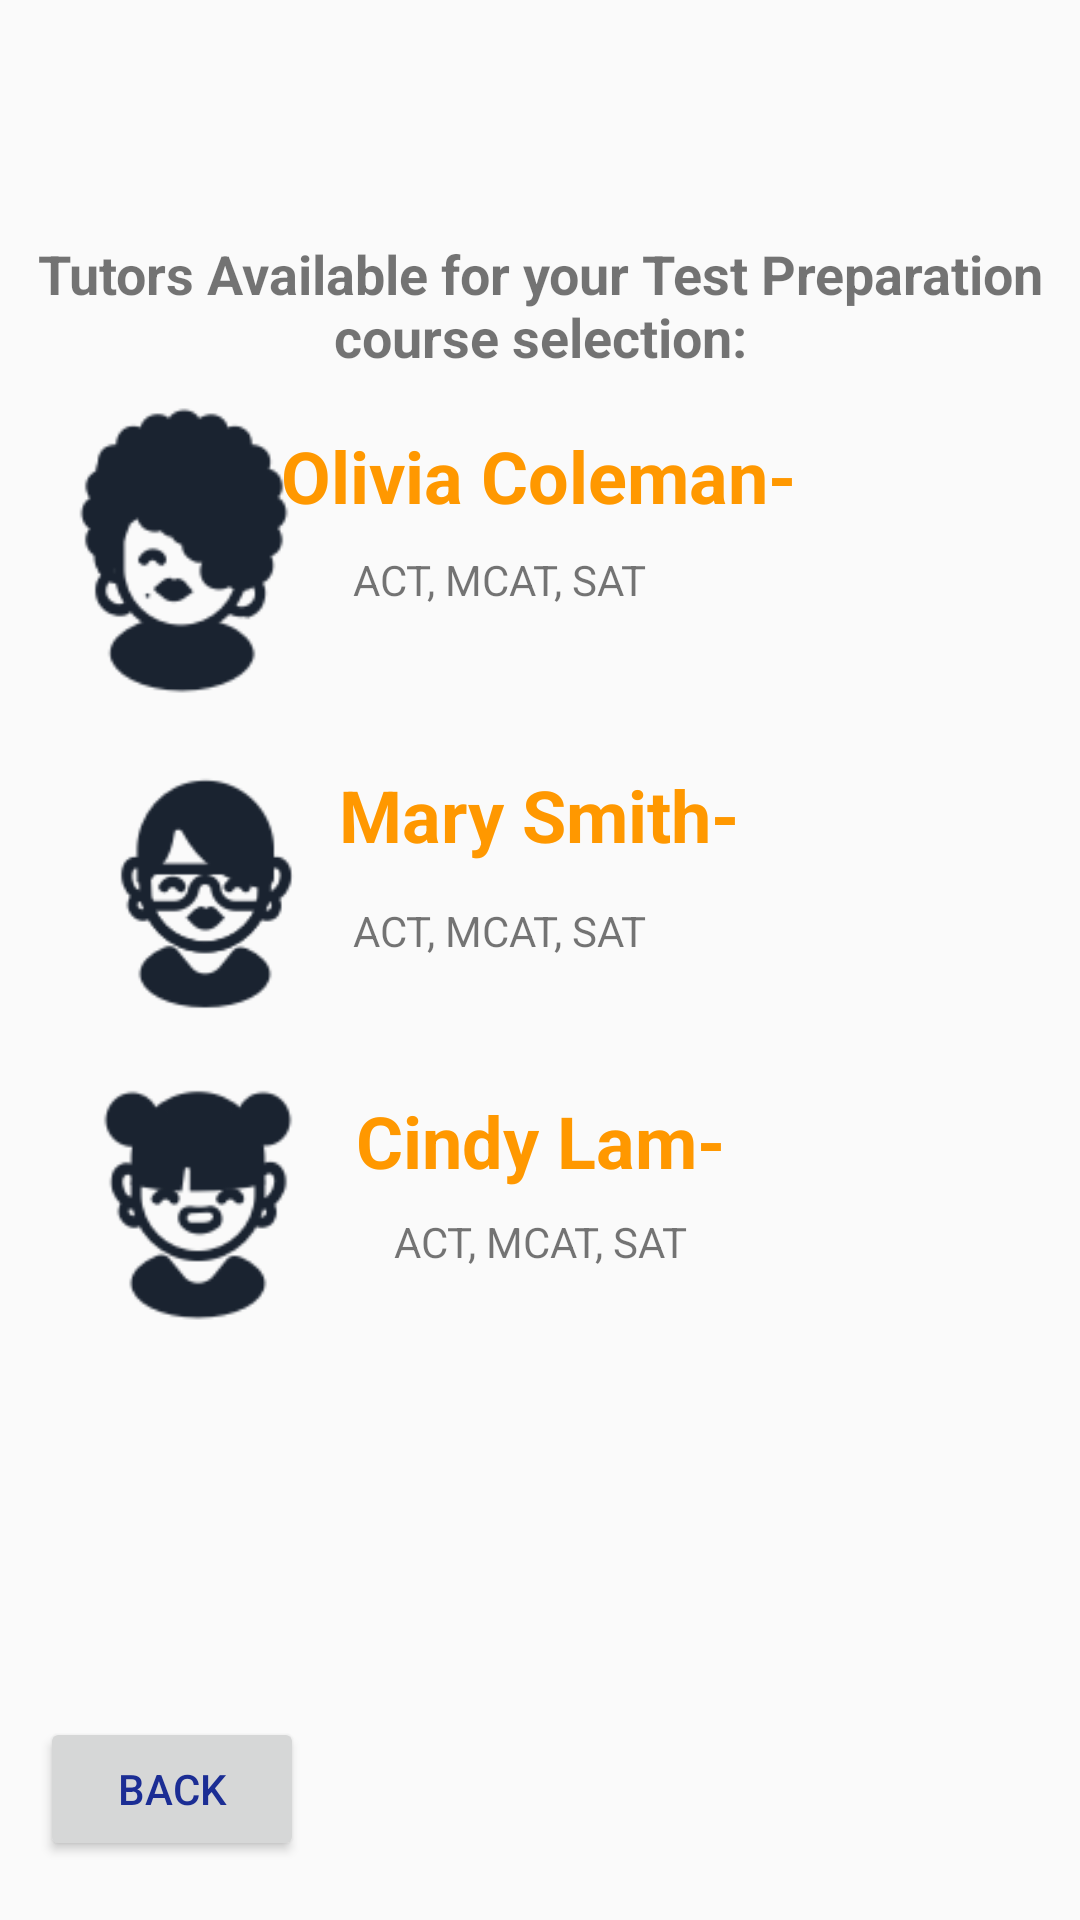

Screen size 1080×1920. Icon name, then its box in pixels as bbox=[x1, y1, x2, y2]:
femalebuns: bbox=[104, 1090, 292, 1320]
femaleglasses: bbox=[120, 779, 292, 1008]
